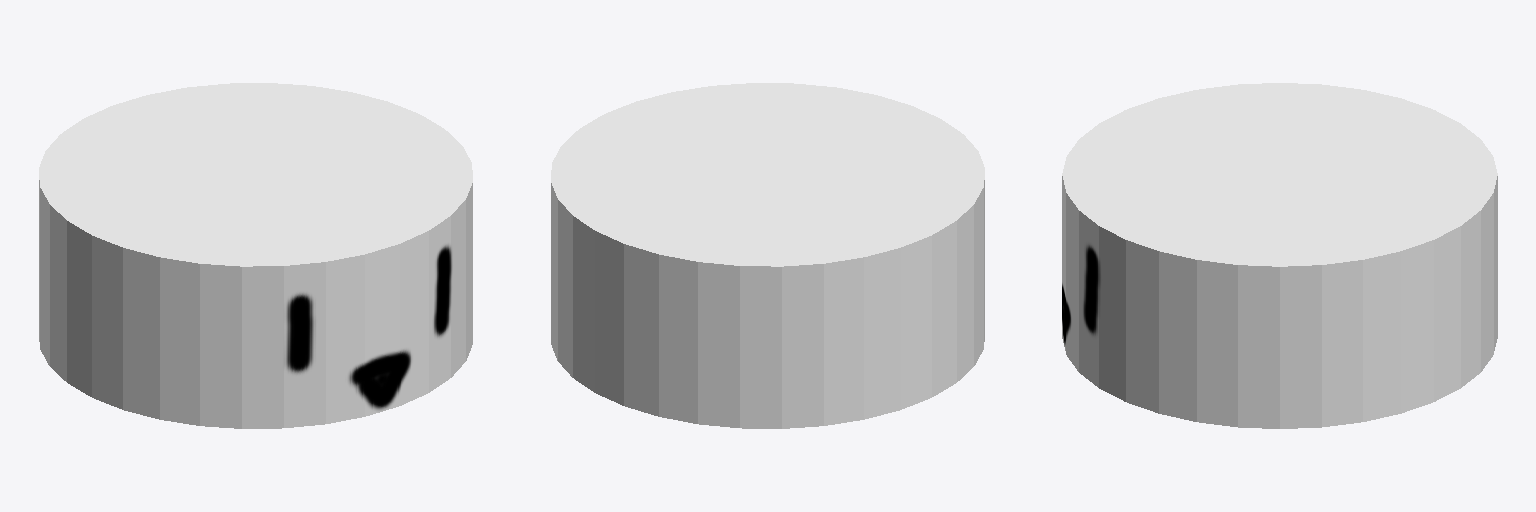
The picture shows the model from 3 angles: view 1: azimuth 30°, elevation 25°; view 2: azimuth 150°, elevation 25°; view 3: azimuth 270°, elevation 25°; orthographic projection.
Parts seen in each view (by area): view 1: 円柱; view 2: 円柱; view 3: 円柱.
Boxes of the visible parts, x1,y1,x2,y2 form: 円柱: [39, 83, 472, 428]; 円柱: [551, 83, 984, 428]; 円柱: [1062, 83, 1497, 428].
Bounding box in the file's own units: 2 × 0.8227 × 2.
Materials: 1 (1 with a texture image).